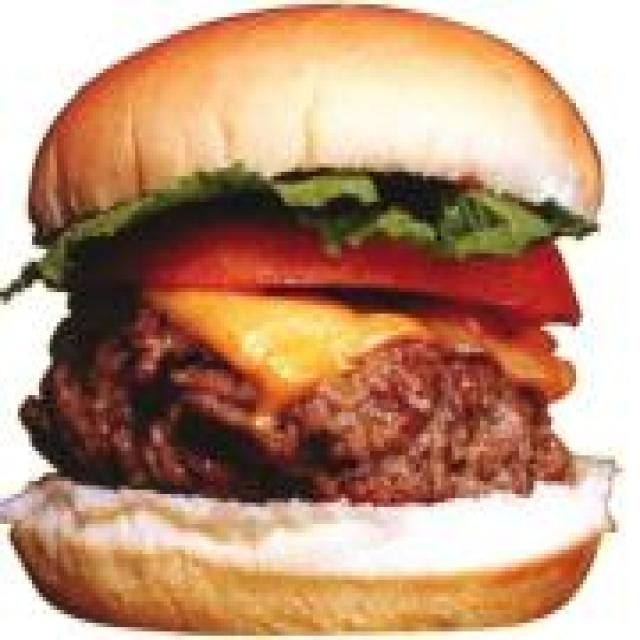汉堡快餐: (0, 0, 640, 636)
